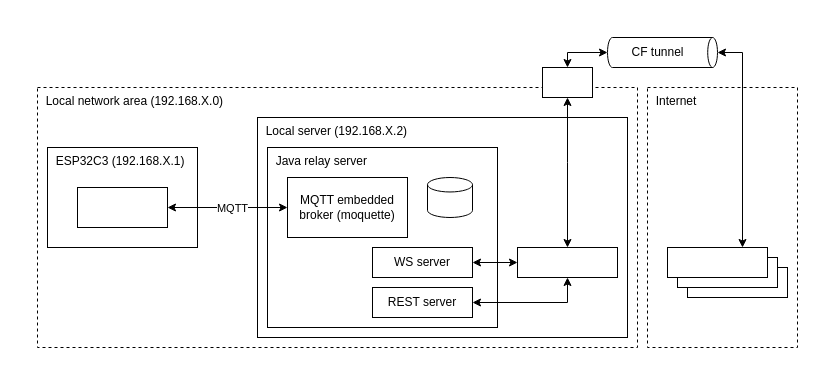
Some shapes in this 834 by 384 pixel diagram are drawn without their labels. The shapes that lost their labels are listed below. From the top down, each one's centre as x and y in pixels, then its label:
At point 567,82: "NAT".
At point 122,207: "ESP32C3 firmware".
At point 449,197: "DB".
At point 567,262: "Cloudflared".
At point 717,262: "Clients".
